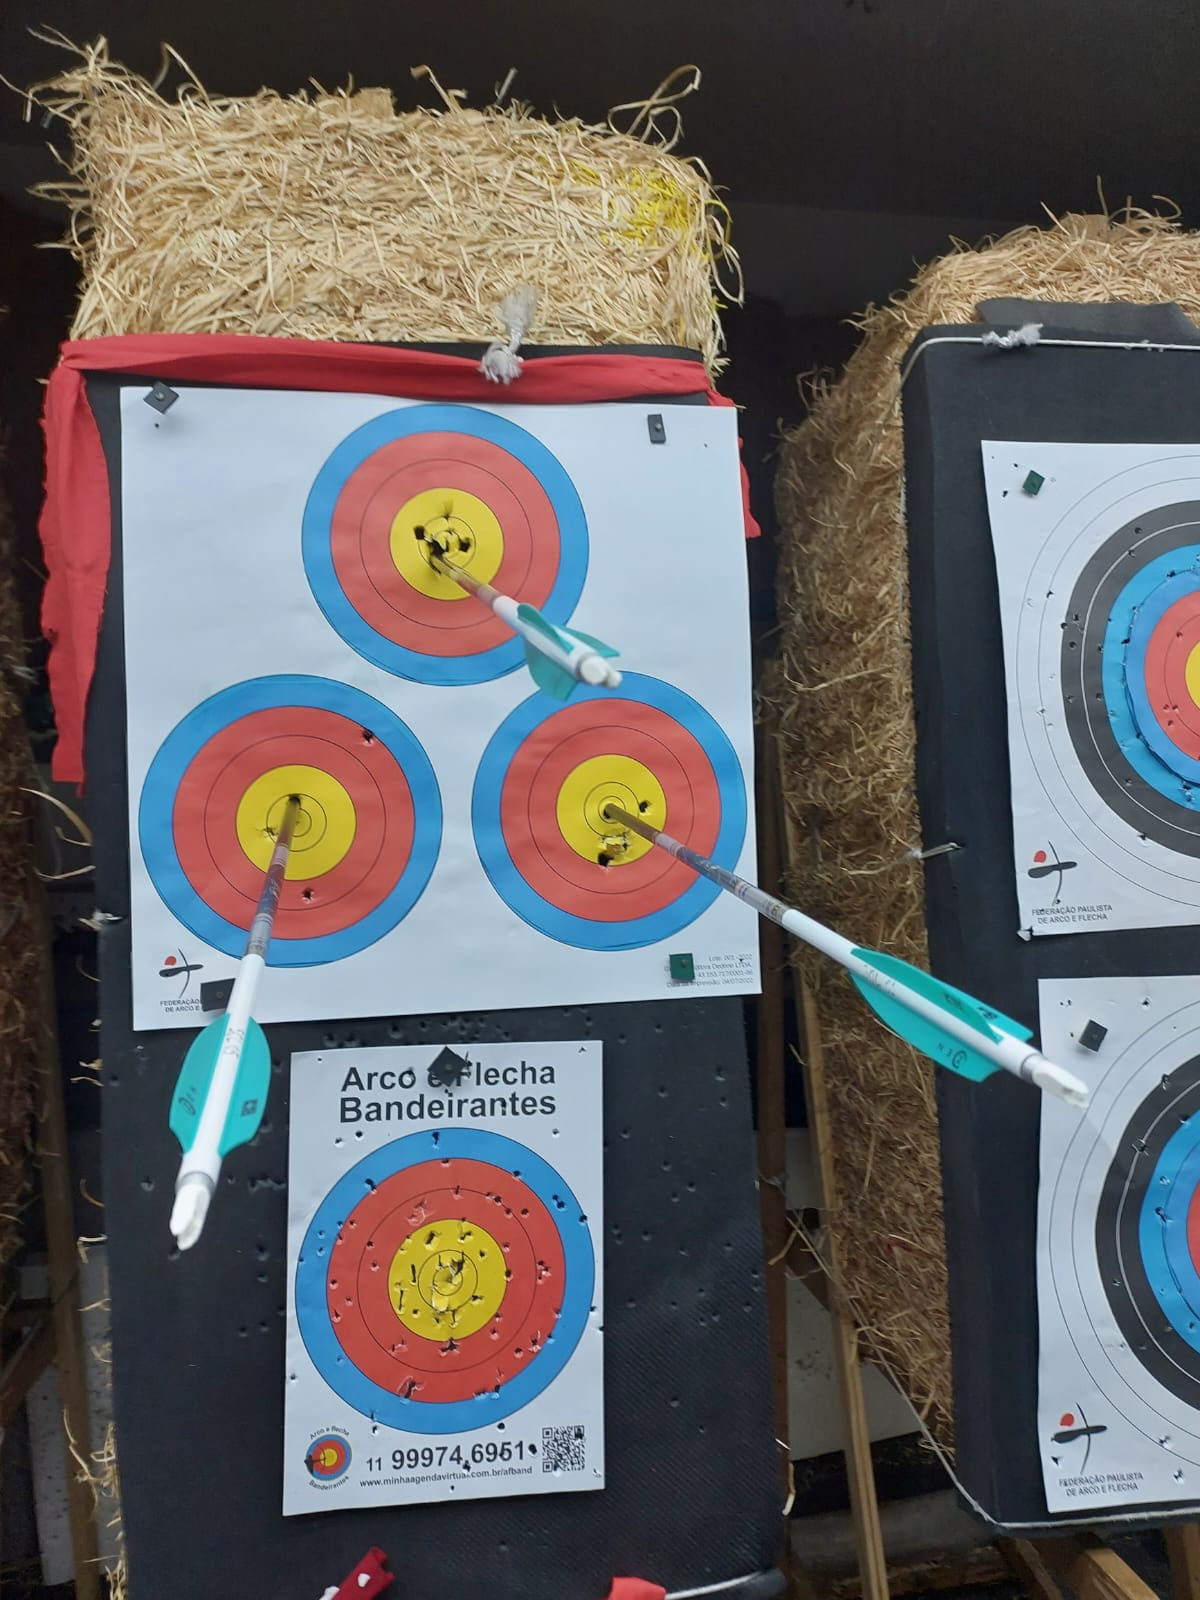10: (490, 684, 814, 979)
9 linha 10: (147, 677, 458, 1008), (333, 423, 592, 687)
